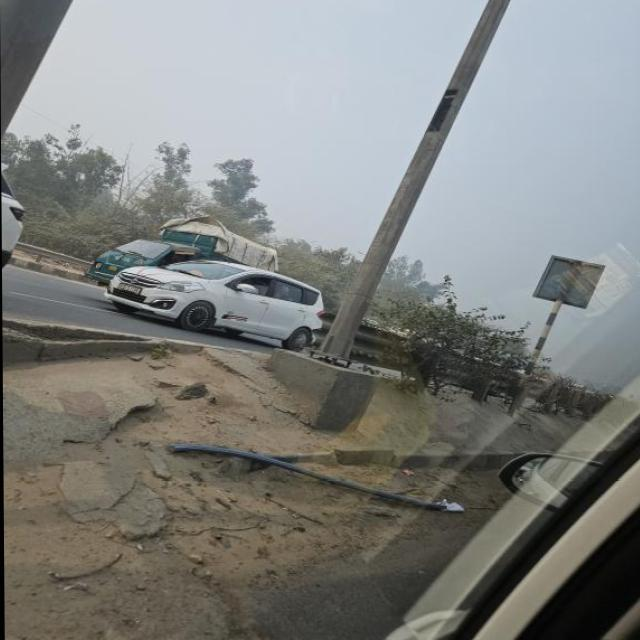covered: (81, 218, 290, 284)
